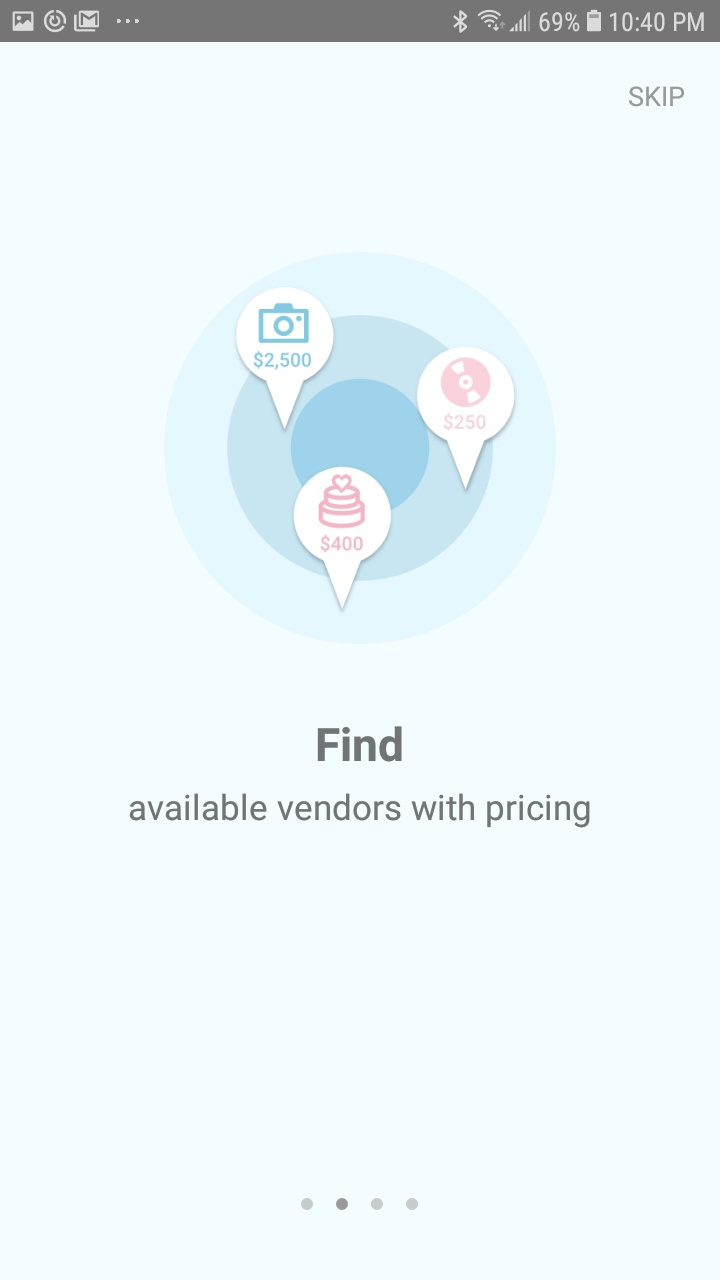Image: (164, 252, 558, 646)
PageIndicator: (301, 1197, 419, 1211)
Text: (130, 793, 591, 829), (318, 726, 403, 763), (629, 86, 685, 108)
UpperTaskBar: (1, 1, 720, 43)
